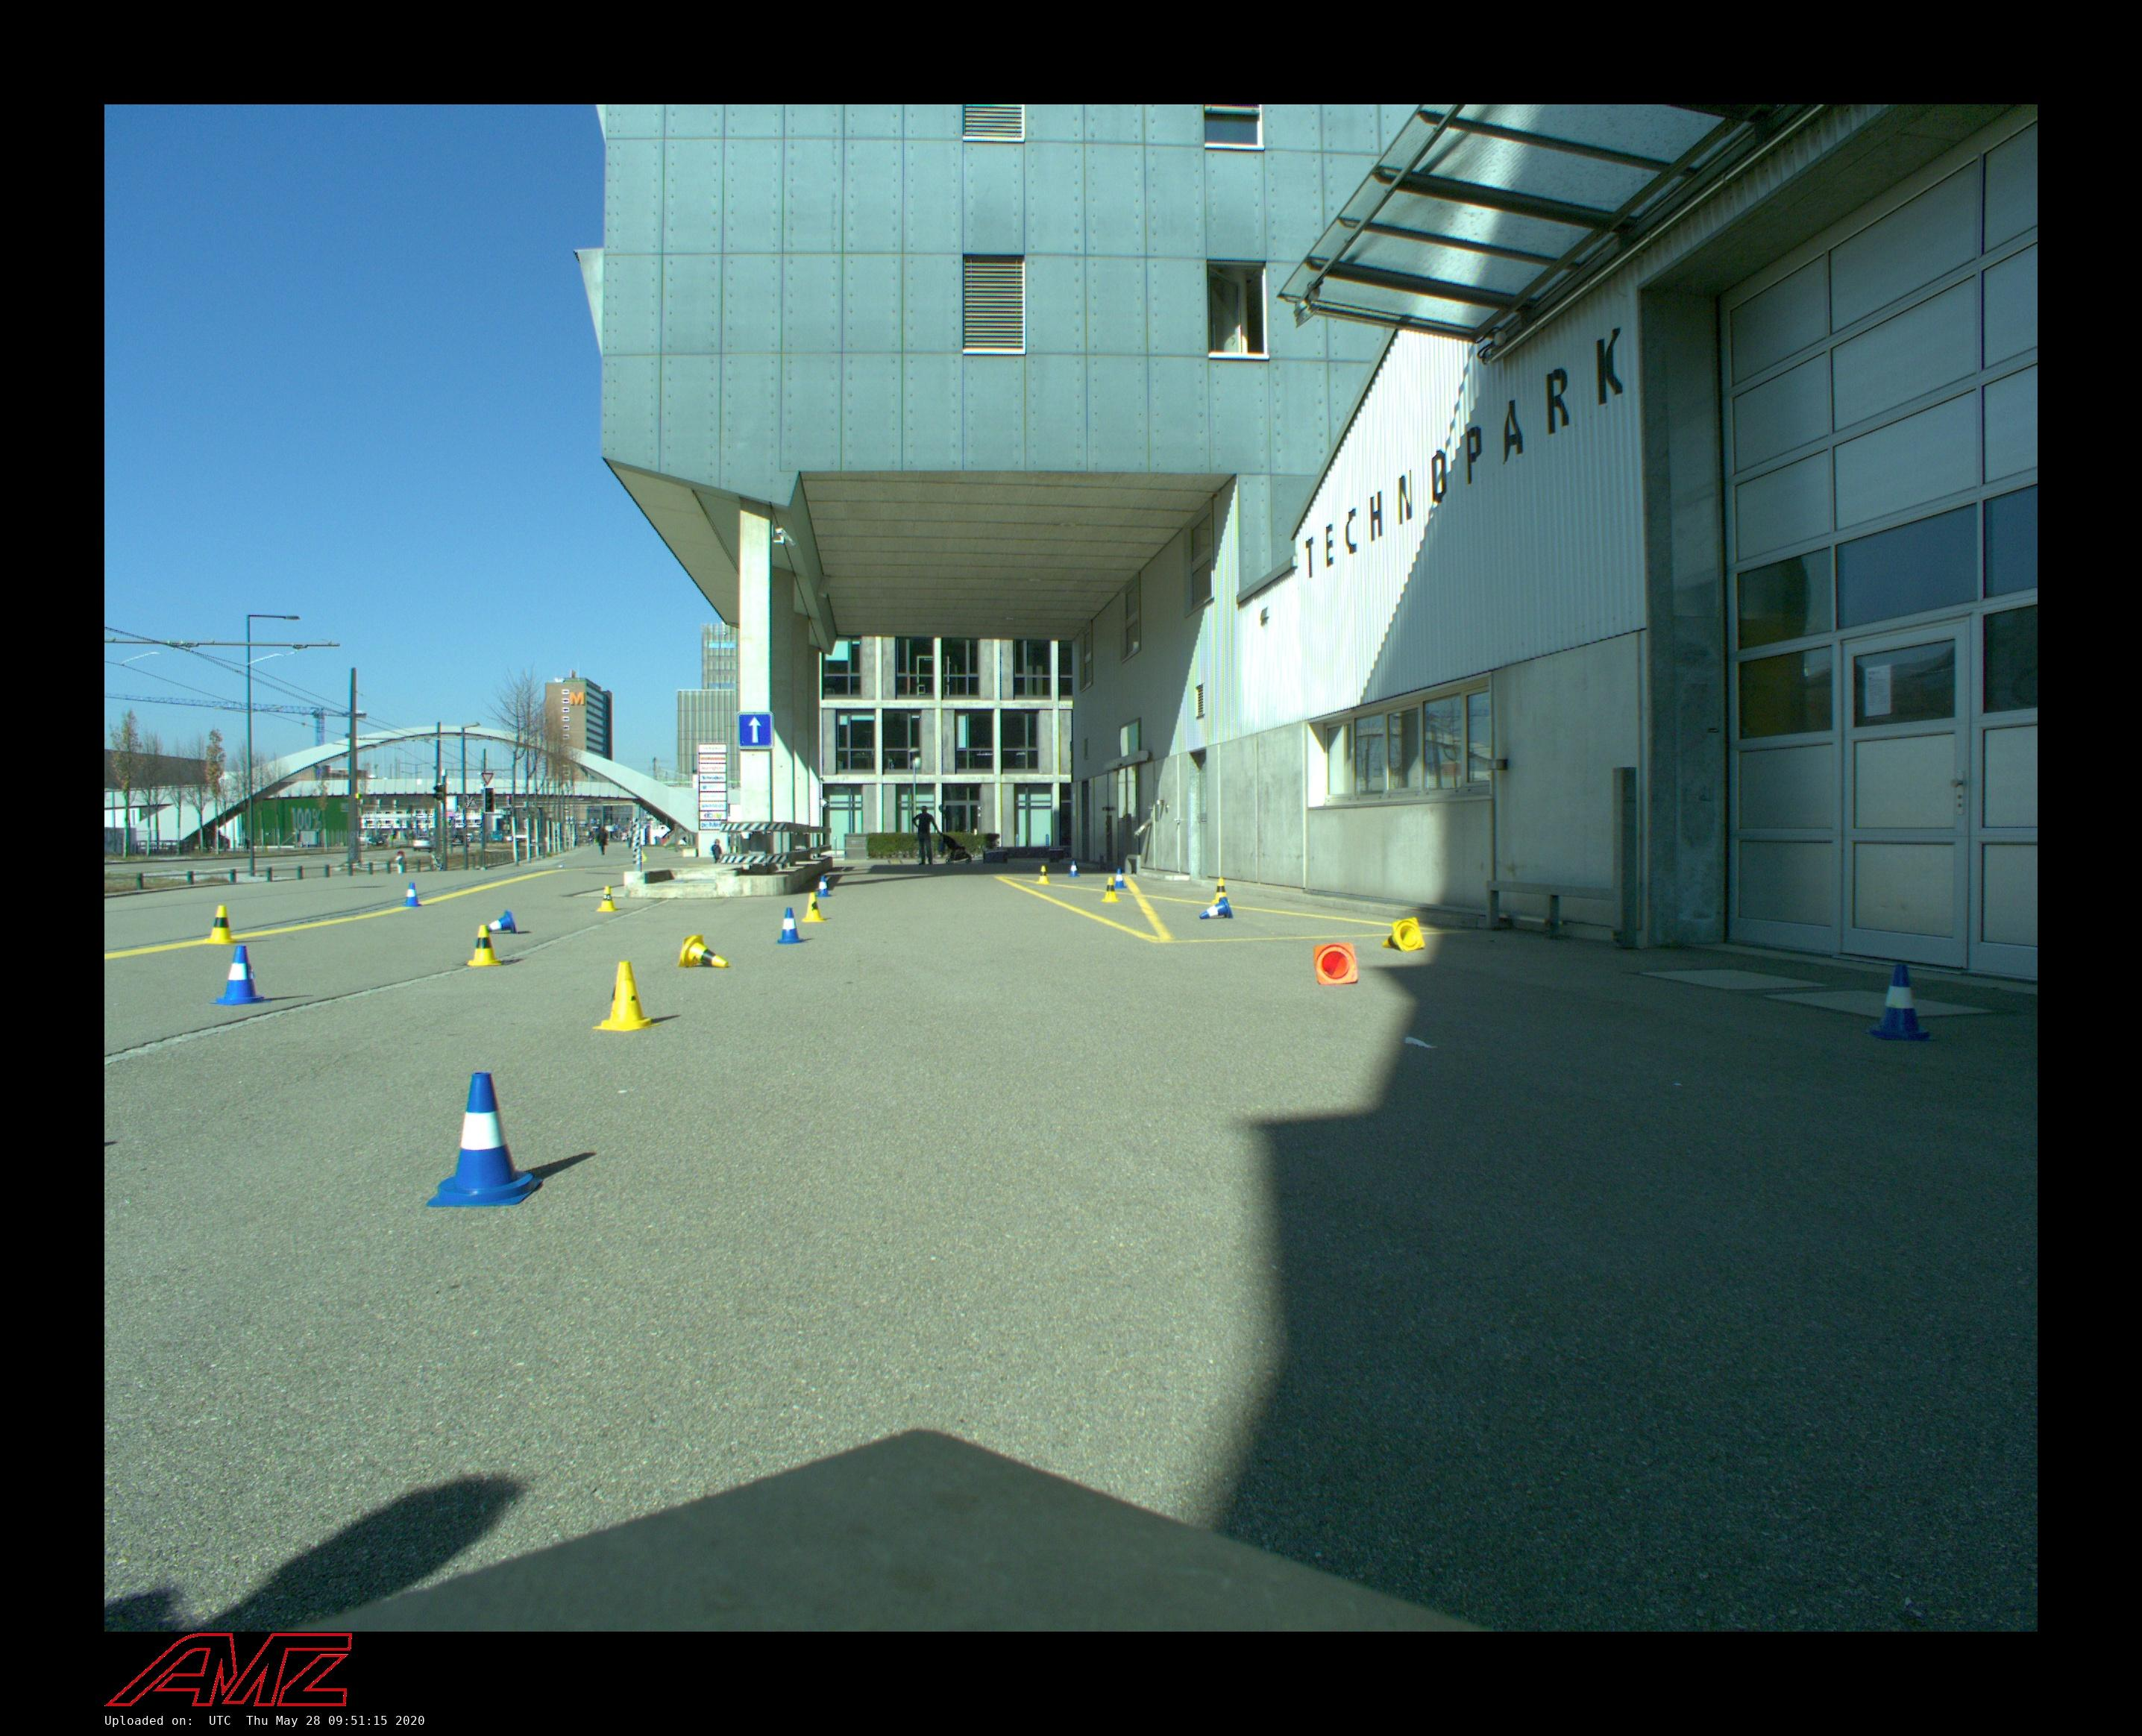blue_cone: (427, 1072, 542, 1206), (1866, 964, 1935, 1042), (209, 946, 269, 1004), (778, 907, 803, 944), (480, 911, 517, 934), (1199, 896, 1233, 919), (402, 882, 422, 907), (817, 875, 831, 896), (1113, 868, 1127, 889), (1068, 861, 1081, 877)
orange_cone: (1315, 942, 1359, 985)
yellow_cone: (594, 962, 659, 1031), (679, 934, 728, 967), (1382, 918, 1424, 951), (468, 925, 501, 965), (206, 905, 237, 944), (803, 893, 826, 923), (597, 886, 618, 912), (1212, 877, 1231, 903), (1102, 877, 1120, 903), (1036, 864, 1051, 884)
